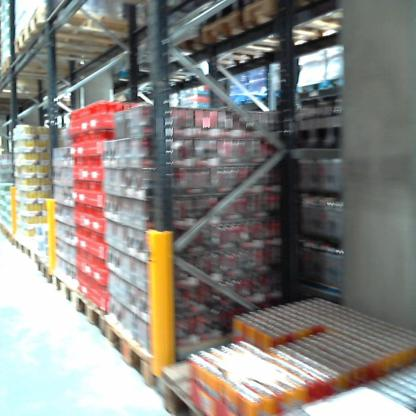pallet: (107, 310, 261, 391), (199, 8, 313, 65), (232, 1, 349, 51), (160, 347, 248, 412), (26, 5, 135, 51), (13, 28, 144, 66), (73, 290, 107, 346), (49, 271, 74, 313), (296, 77, 325, 97), (37, 258, 54, 285)
